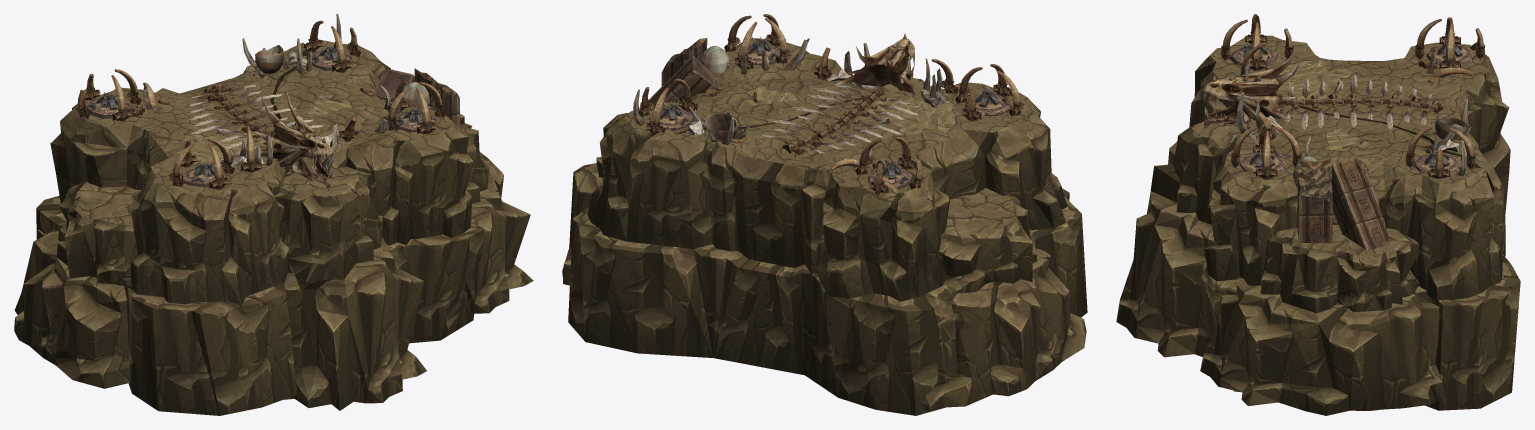
File: Cell2LU_RD.fbx
3 renders of one model, left to right at view 1: azimuth 30°, elevation 25°; view 2: azimuth 150°, elevation 25°; view 3: azimuth 270°, elevation 25°, orthographic. The views are drawn at different scales.
Visible parts, largest first — view 1: Cell2LU_RD; view 2: Cell2LU_RD; view 3: Cell2LU_RD.
Boxes of the visible parts, x1=… form: Cell2LU_RD: x1=14, y1=14, x2=533, y2=415; Cell2LU_RD: x1=562, y1=14, x2=1087, y2=415; Cell2LU_RD: x1=1116, y1=14, x2=1520, y2=415.
Size of the model in its own units: 30.22 by 16.35 by 22.37.
